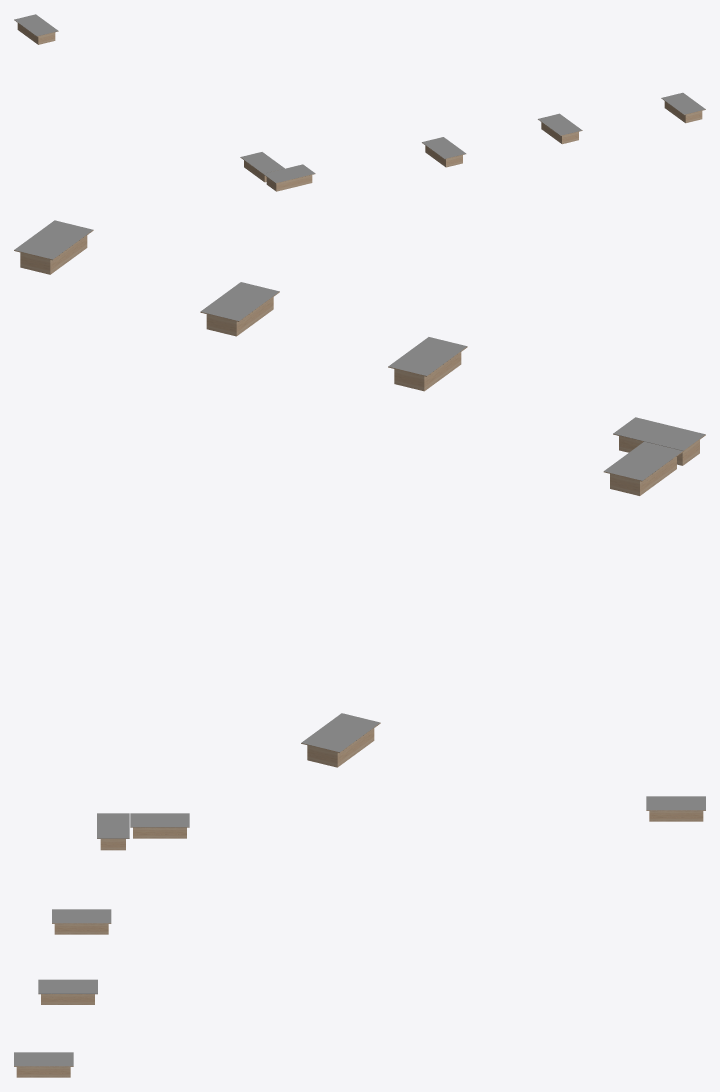
File: Table.fbx
3 views of the same model, one above another, from view 1: azimuth 30°, elevation 25°; view 2: azimuth 150°, elevation 25°; view 3: azimuth 270°, elevation 25° (orthographic). The views are drawn at different scales.
Visible parts, largest first — view 1: Table; view 2: Table; view 3: Table.
Boxes of the visible parts, x1=… form: Table: x1=14, y1=14, x2=705, y2=191; Table: x1=14, y1=220, x2=705, y2=767; Table: x1=14, y1=796, x2=705, y2=1077.
Bounding box in the file's own units: 1898 × 45.77 × 2049.
